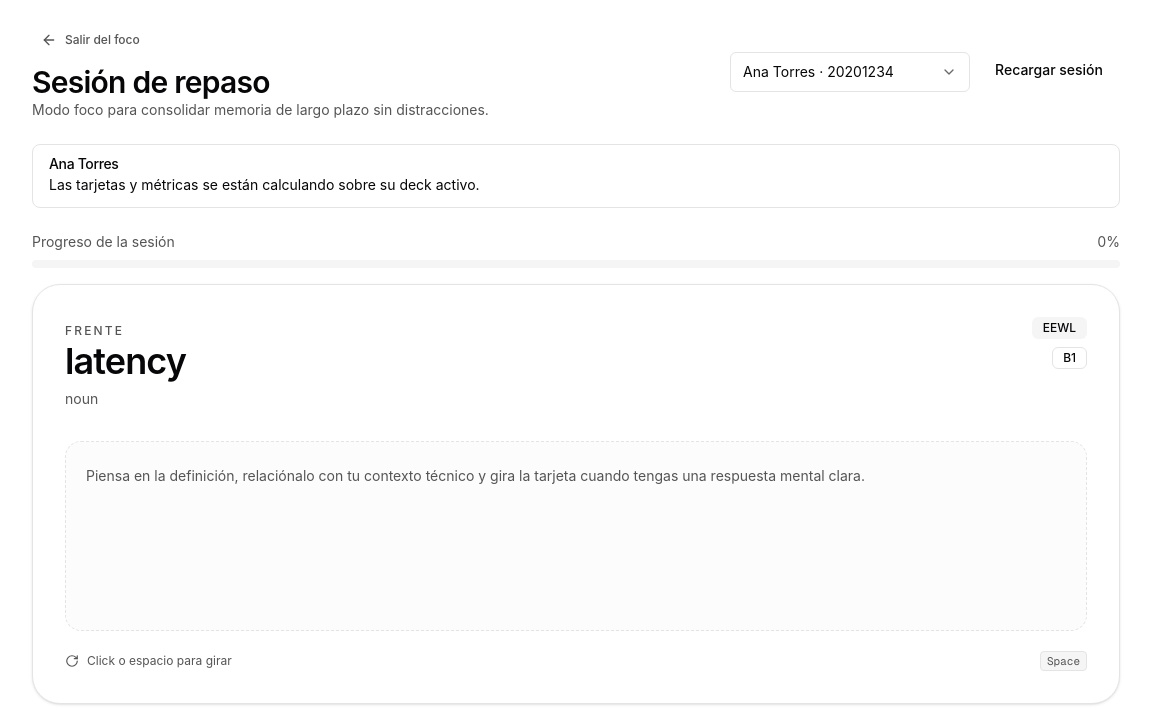
Test: ReviewSessionPage › loads session, flips card and grades the current card
Click the heading "latency" at (126, 361), box 65,341 -> 186,381
(page scrolled)
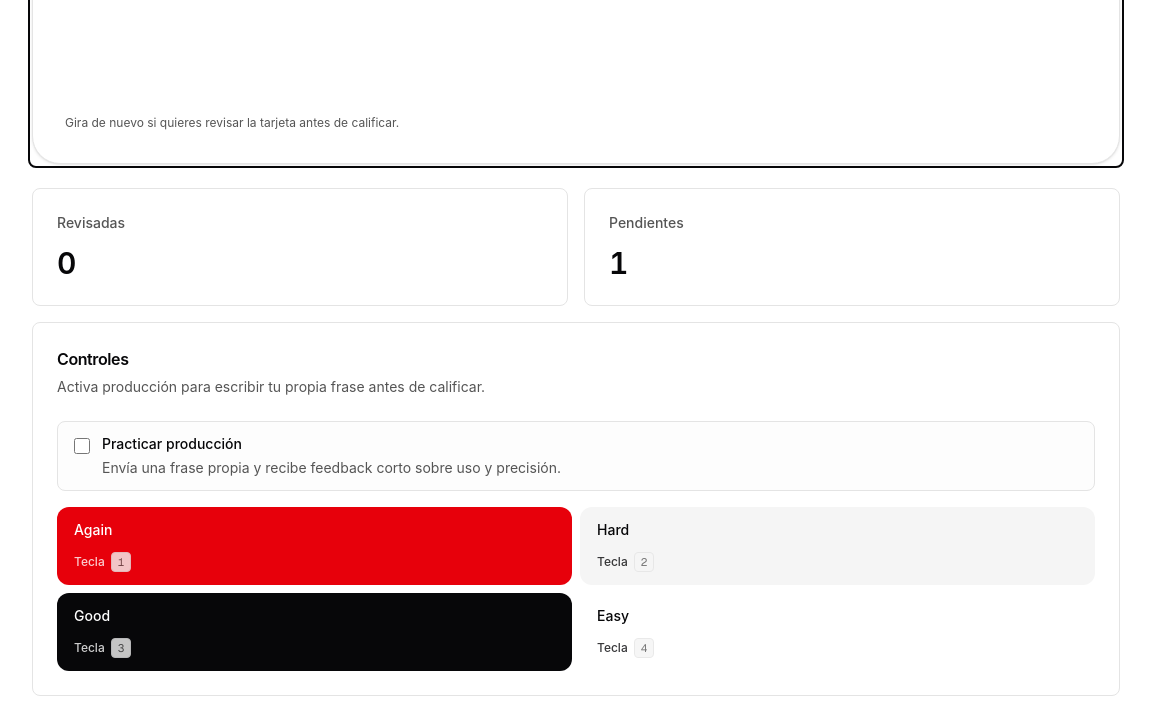
Click the button "Good Tecla 3" at (92, 616), box 57,593 -> 572,671
(page scrolled)
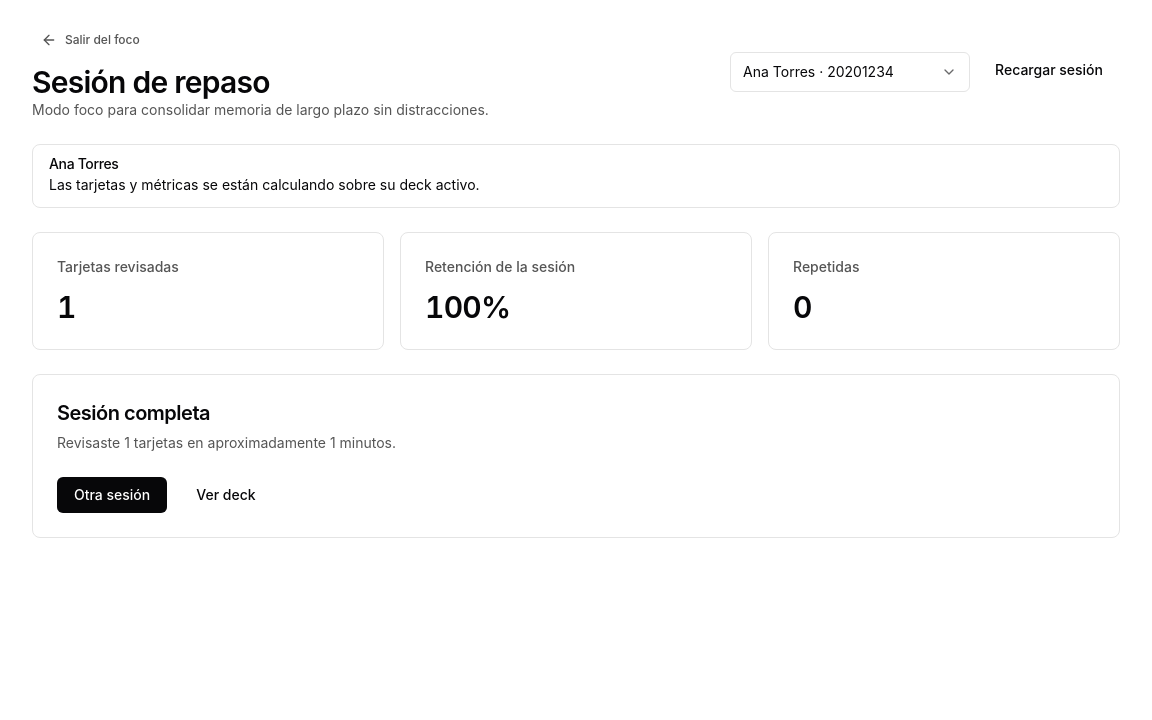
Now the heading "Sesión completa" is shown, box 57,401 -> 210,425
